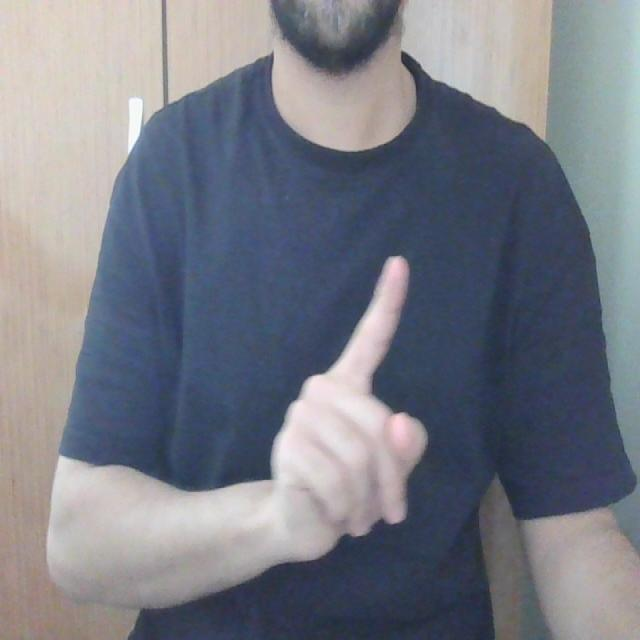Hayir: (273, 222, 429, 586)
